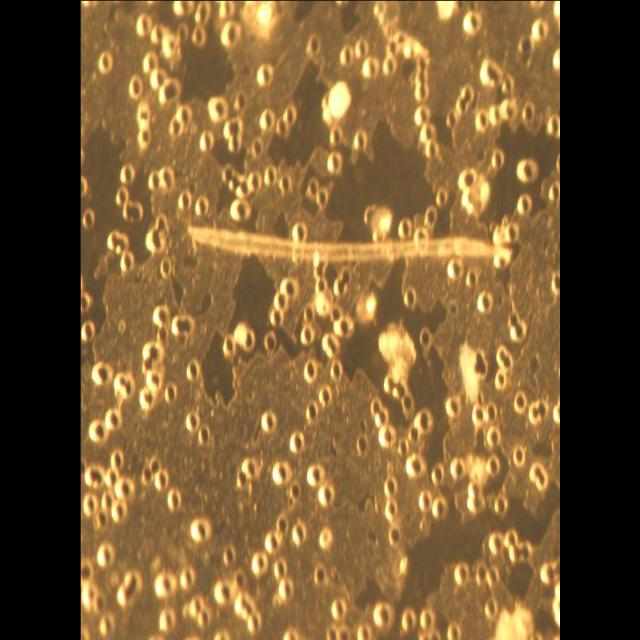Fibre: (183, 212, 515, 284)
